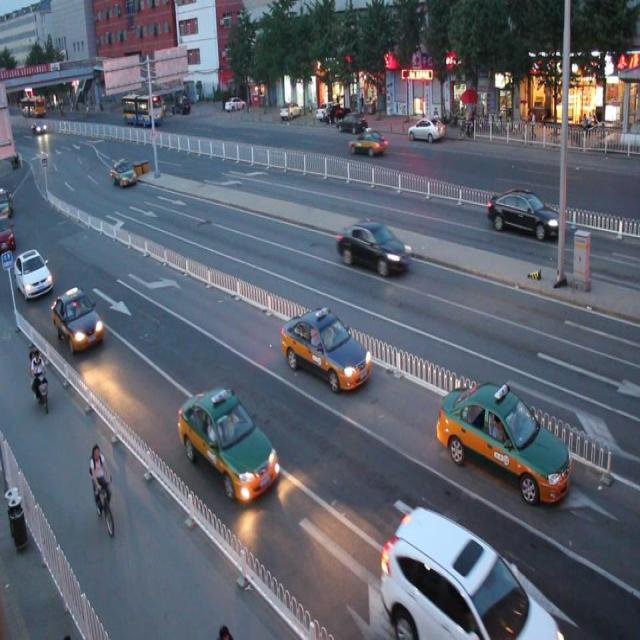car: (378, 503, 562, 640), (436, 379, 571, 506), (178, 387, 282, 501), (279, 307, 372, 390), (336, 218, 411, 276), (487, 187, 561, 238), (54, 286, 104, 350), (349, 130, 388, 156)
